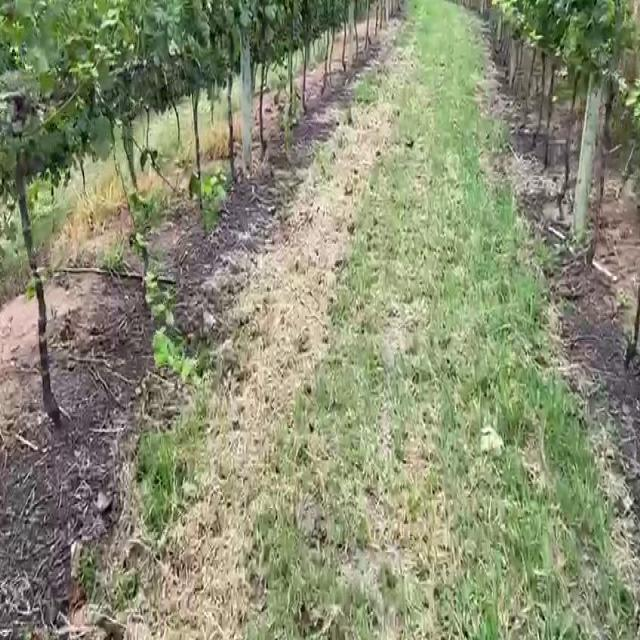tree trunk: (16, 149, 59, 424), (574, 70, 602, 238), (574, 72, 600, 239), (241, 29, 251, 176)
